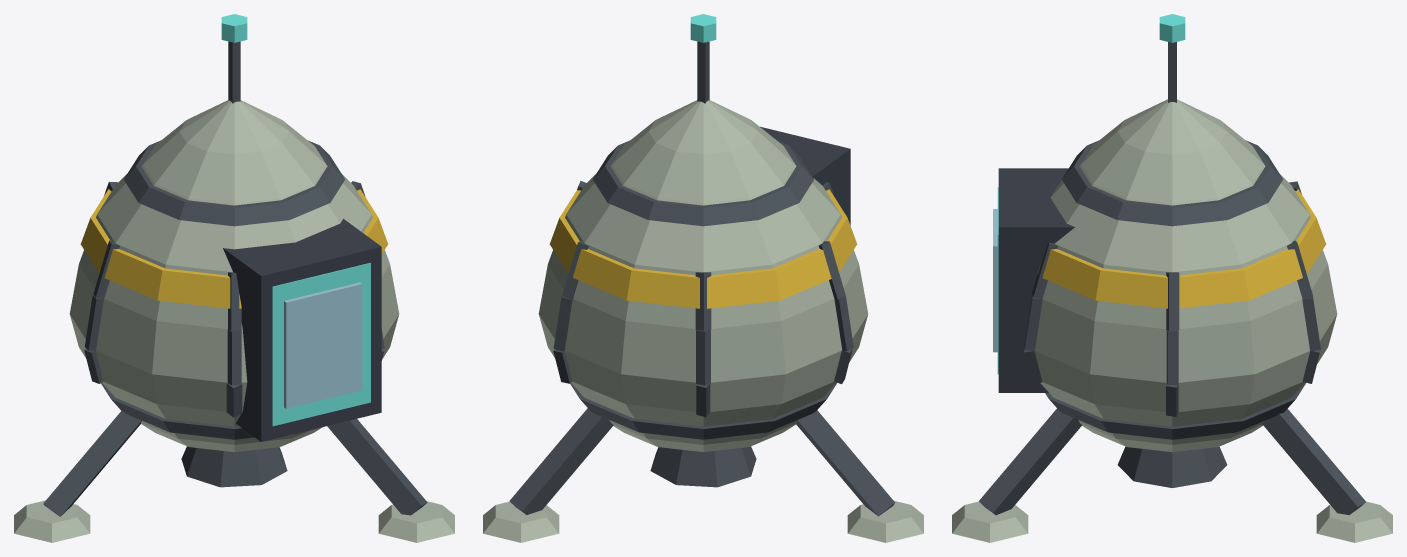
The model's file is SH_EscapePod_01.glb.
3 views of the same model, side by side, from view 1: azimuth 30°, elevation 25°; view 2: azimuth 150°, elevation 25°; view 3: azimuth 270°, elevation 25° (orthographic).
Visible parts, largest first — view 1: SH_EscapePod_01; view 2: SH_EscapePod_01; view 3: SH_EscapePod_01.
Part boxes in pixels (box(x1,y1,x2,y2)): SH_EscapePod_01: box(14, 14, 454, 542); SH_EscapePod_01: box(483, 14, 923, 542); SH_EscapePod_01: box(952, 14, 1392, 542).
Size of the model in its own units: 2.33 by 2.77 by 2.41.
Materials: 1 (1 with a texture image).
